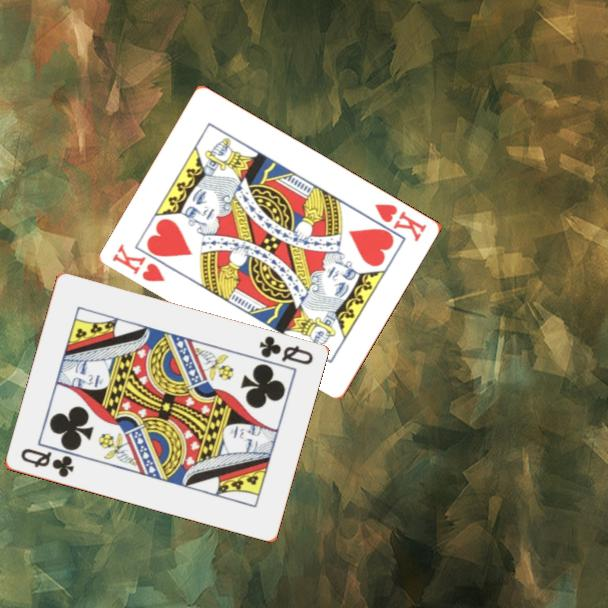c12: (255, 333, 316, 368), (17, 445, 76, 480)
h13: (371, 200, 430, 245), (109, 240, 168, 285)
